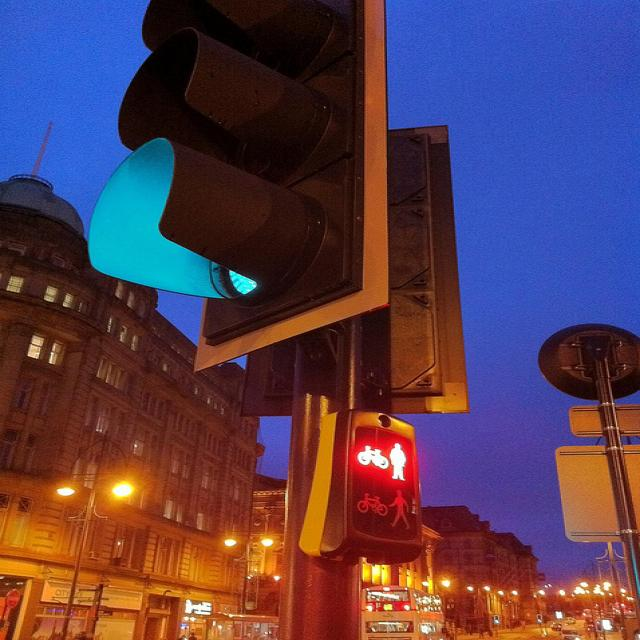Vehicle: (550, 621, 562, 631), (564, 635, 580, 640), (565, 617, 575, 624)
